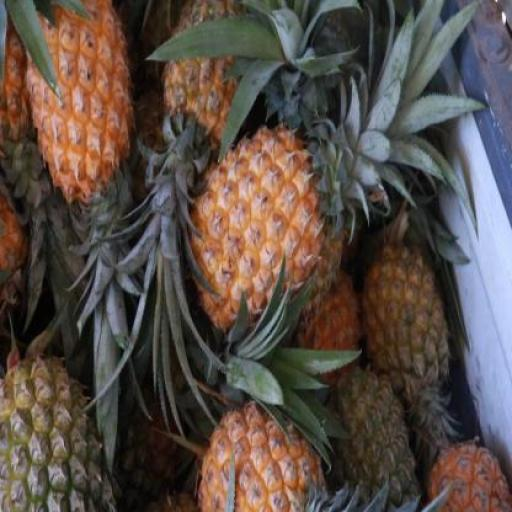------------------------------: (0, 344, 112, 511), (361, 237, 448, 409)
Pineapple - v8 v1: (184, 115, 334, 326), (21, 0, 134, 194), (197, 404, 313, 510), (424, 436, 512, 511)
